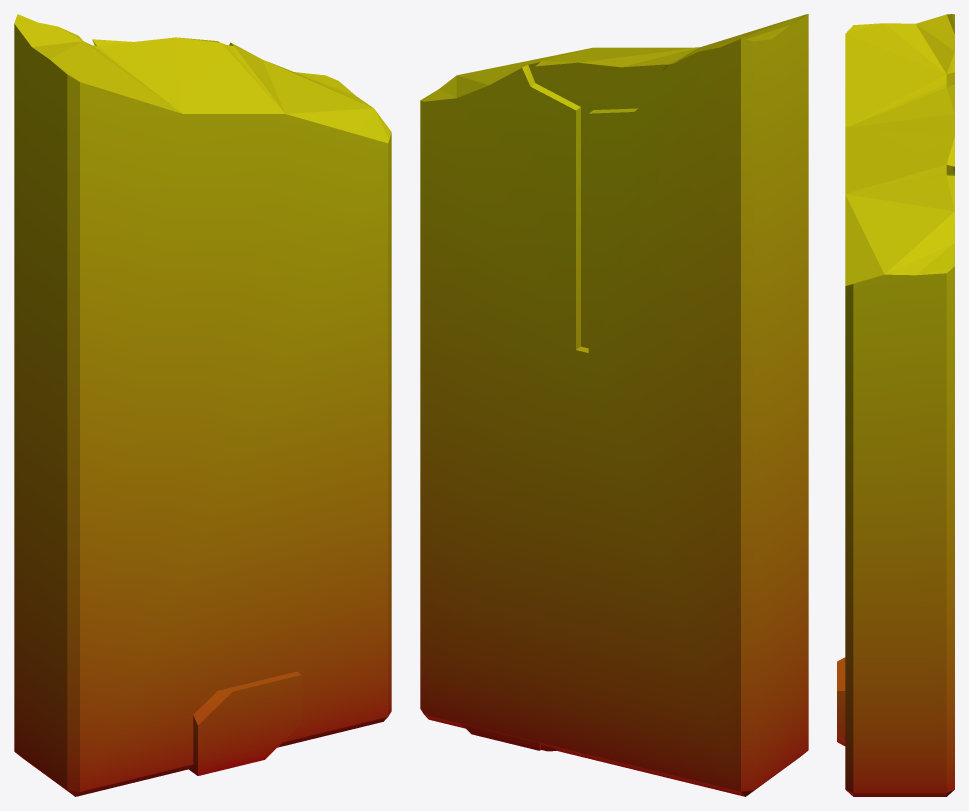
File: stele_broken.glb
The picture shows the model from 3 angles, left to right: view 1: azimuth 30°, elevation 25°; view 2: azimuth 150°, elevation 25°; view 3: azimuth 270°, elevation 25°; orthographic projection. The views are drawn at different scales.
Visible parts, largest first — view 1: stele_broken; view 2: stele_broken; view 3: stele_broken.
Part boxes in pixels (x1,y1,x2,y2): stele_broken: (14, 14, 391, 796); stele_broken: (420, 14, 808, 796); stele_broken: (837, 14, 954, 796).
Size of what is drawn, in the model's own units: 1.2 by 2.62 by 0.4297.
